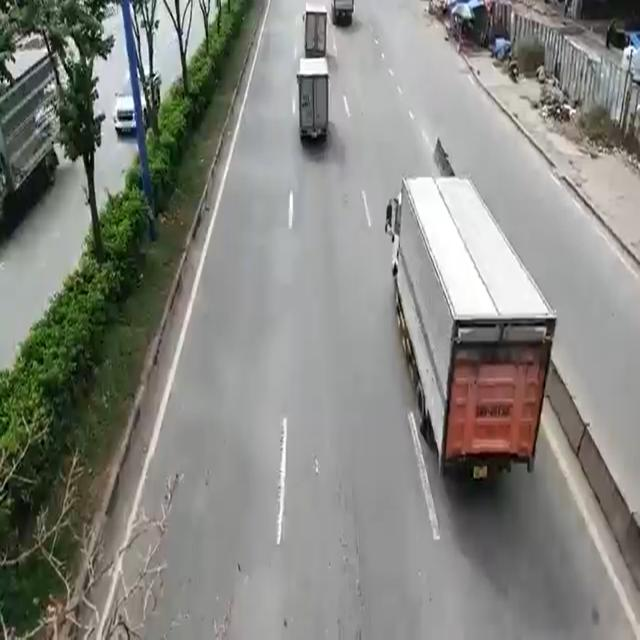truck: (390, 180, 556, 493), (296, 58, 332, 150), (300, 7, 330, 58)
